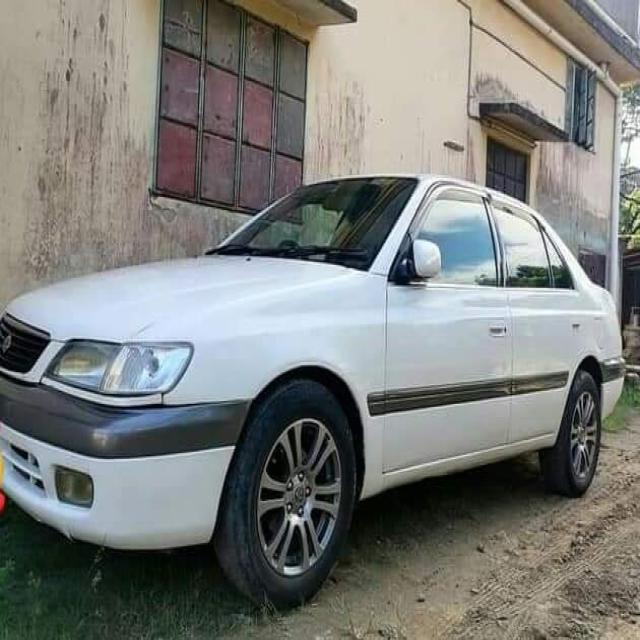white: (0, 157, 640, 546)
